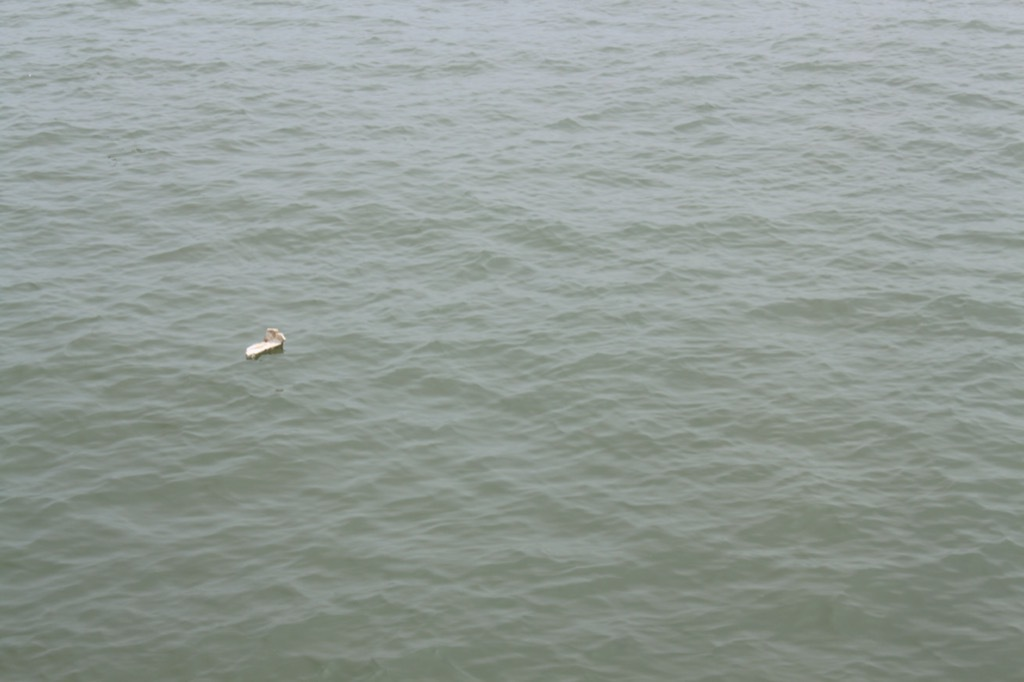plastic: (238, 320, 296, 375)
